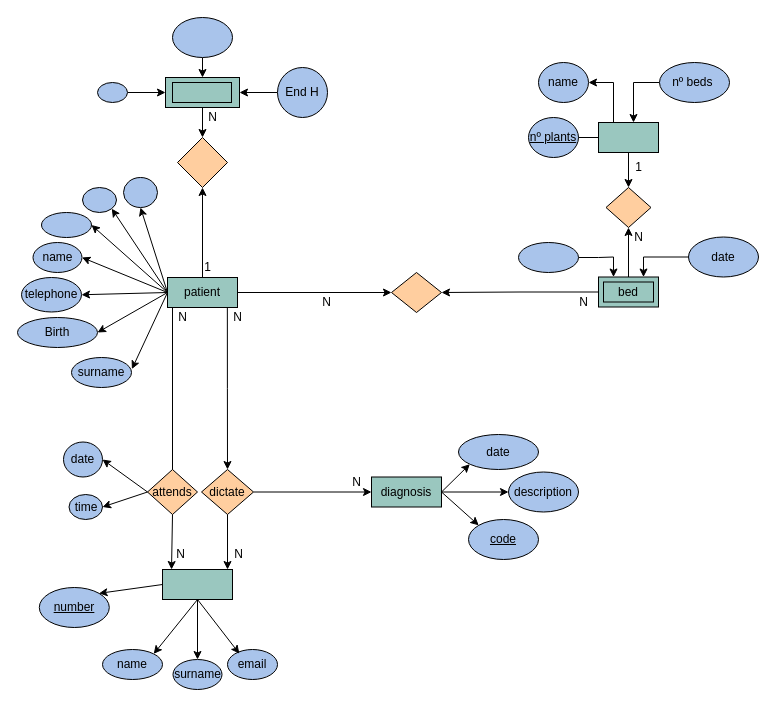
Image size: 776x707. Some labels were removed from this diagram. The centre of each missing label's shape, as x and y in pixels:
"address" belongs at pixel 66 225.
"assign" belongs at pixel 416 292.
"card" belongs at pixel 202 92.
"DNI" belongs at pixel 140 192.
"doctor" belongs at pixel 197 584.
"has" belongs at pixel 202 162.
"is" belongs at pixel 628 207.
"NSS" belongs at pixel 99 199.
"nº" belongs at pixel 112 92.
"nº bed" belongs at pixel 548 257.
"plant" belongs at pixel 628 137.
"Start H" belongs at pixel 202 37.
